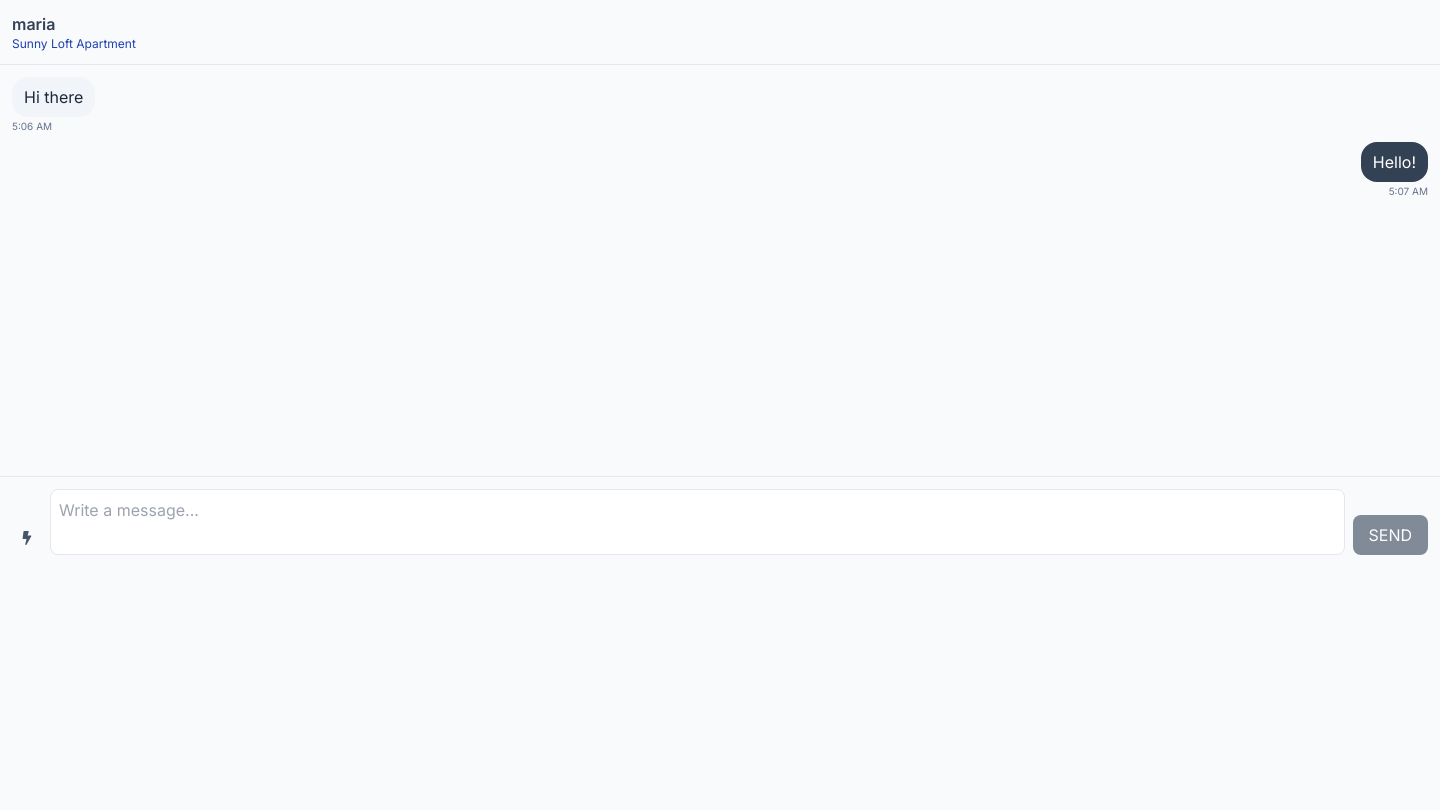
ConversationThread › sends a message
The width and height of the screenshot is (1440, 810).
Check: the text "Hi there" is shown, box [12,77,95,117]
Step 1. Type "Can I visit on Saturday?" into the text box labelled "message" → point(697, 522), box [50,489,1344,555]
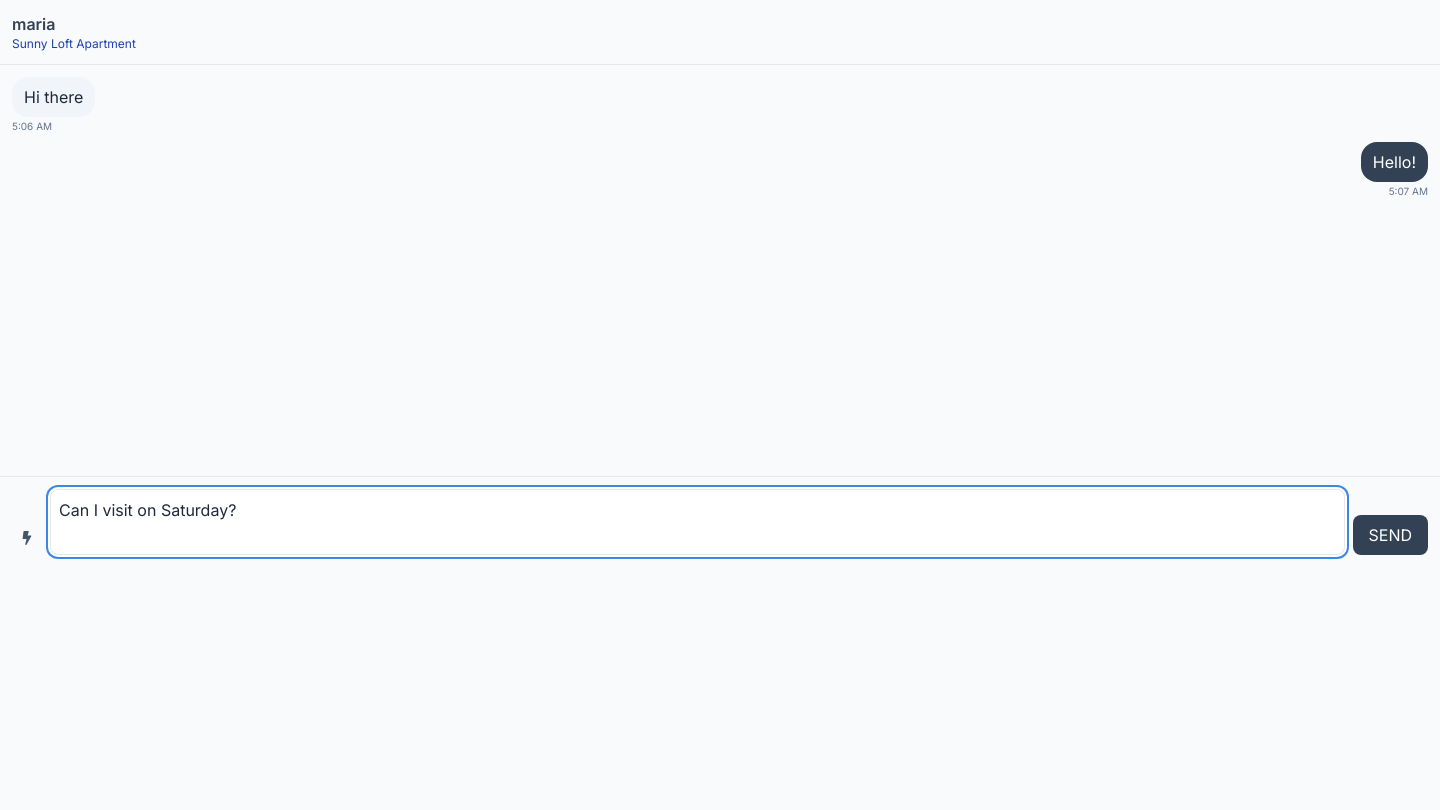
Step 2. Click the button "Send" → point(1390, 535), box [1352,515,1428,555]
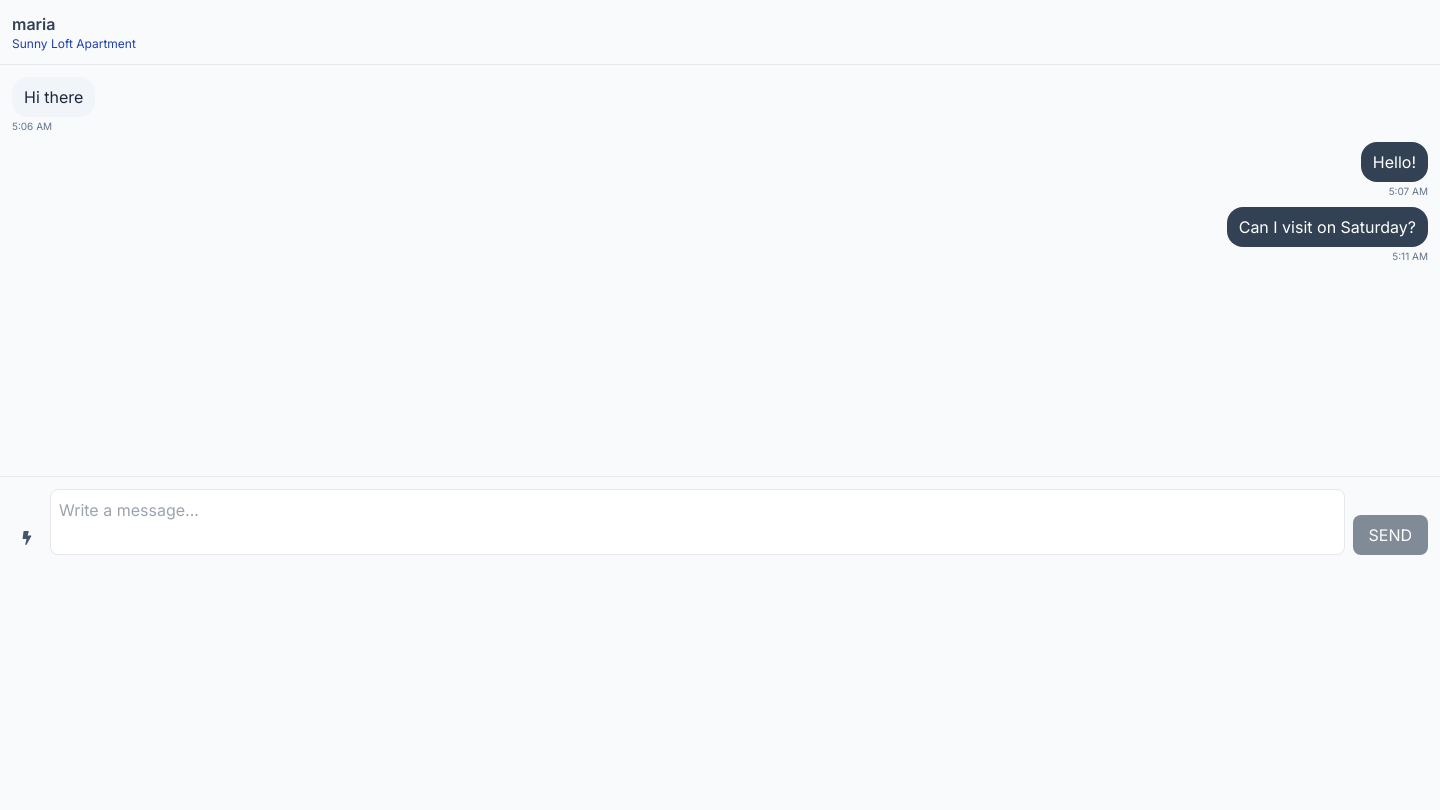
Check: the text "Can I visit on Saturday?" is shown, box [1227,207,1428,247]
Check: the text box labelled "message" is empty, box [50,489,1344,555]
